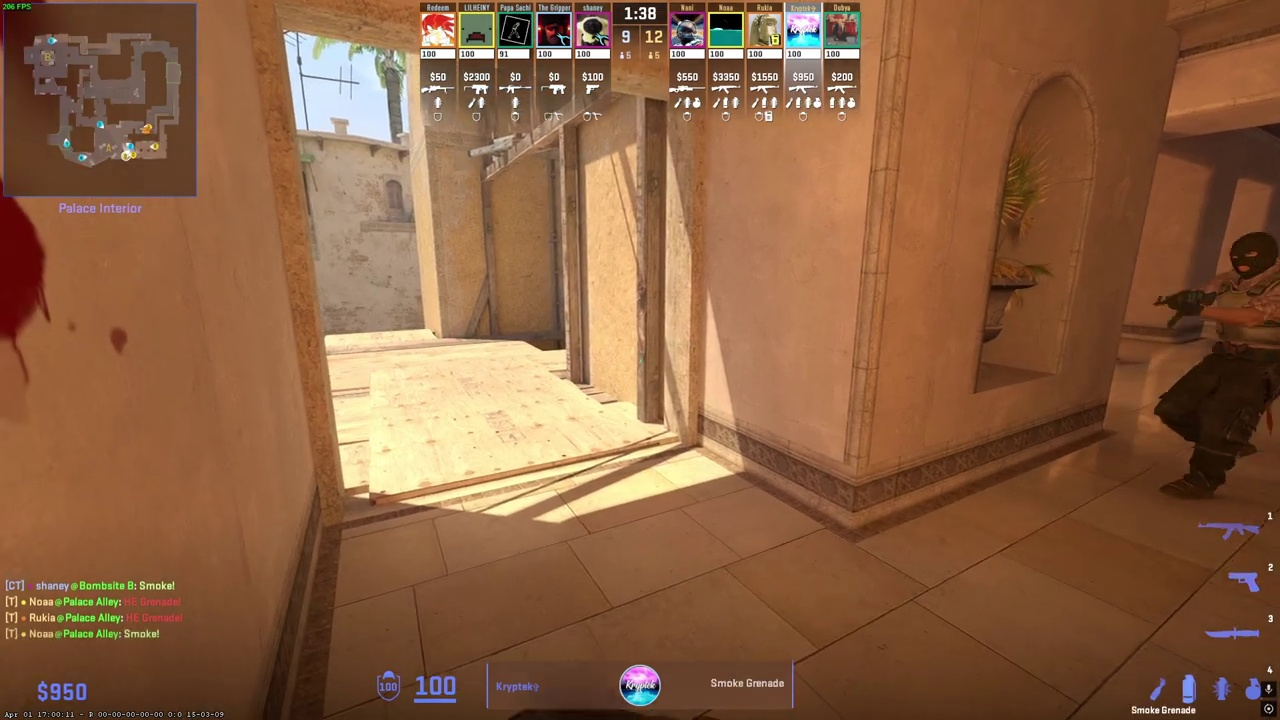Terrorist: (1159, 232, 1280, 501)
